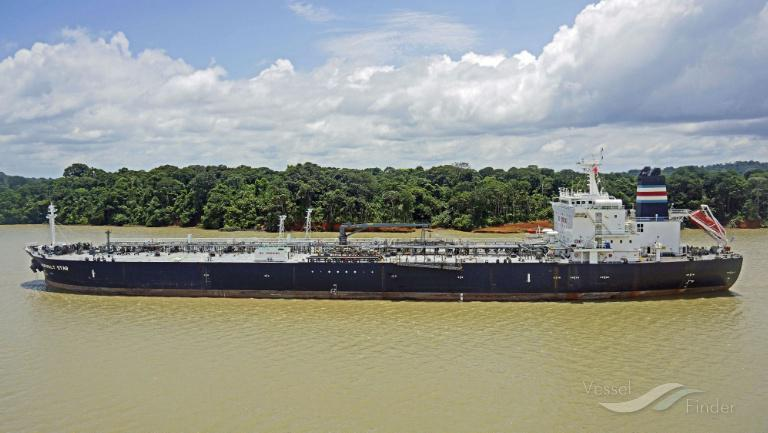OCR: (40, 262, 78, 274)
